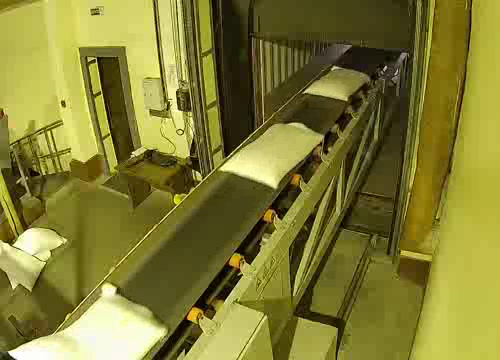bag: (6, 280, 174, 360), (215, 117, 328, 196), (301, 63, 375, 106)
